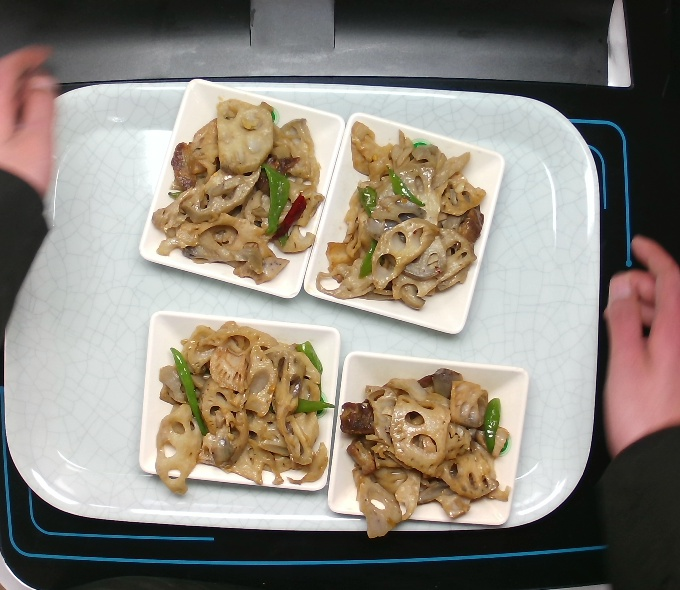wcq-OuPianChaoRou: (317, 120, 497, 297), (149, 105, 329, 282), (148, 316, 328, 493), (338, 370, 519, 535)
